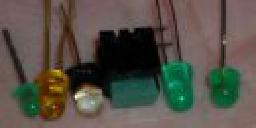LED: (152, 5, 202, 115), (204, 49, 242, 112), (37, 59, 70, 124), (9, 51, 40, 120), (70, 62, 108, 112)
